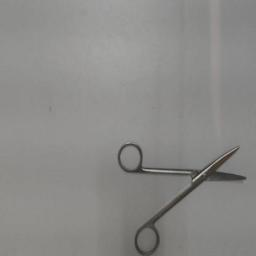Curved Mayo Scissors: (114, 138, 250, 254)
